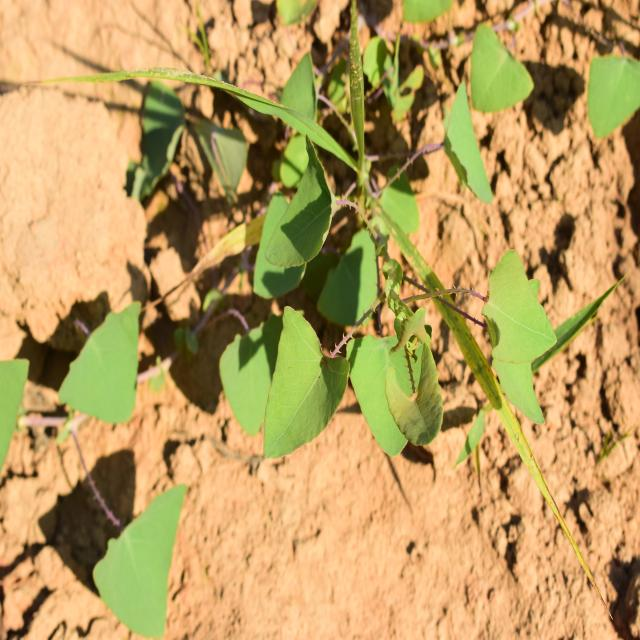Asiatic_Smartweed: (210, 145, 454, 471), (436, 24, 544, 221), (470, 235, 550, 418)
